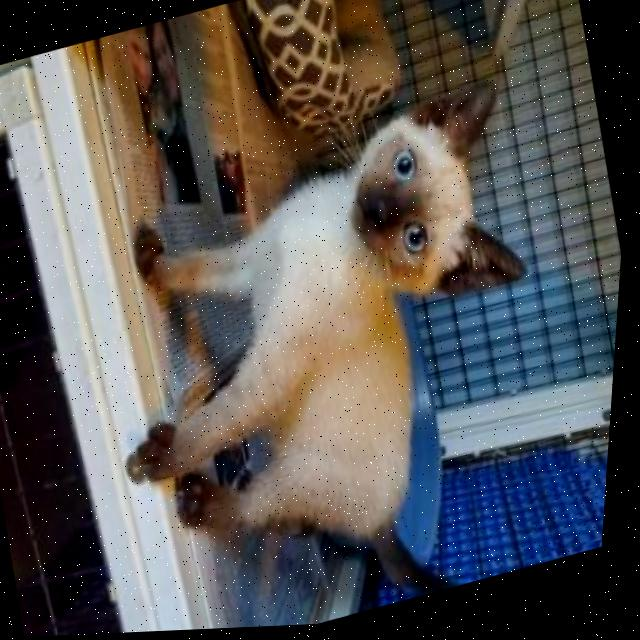Siamese: (77, 72, 614, 636)
